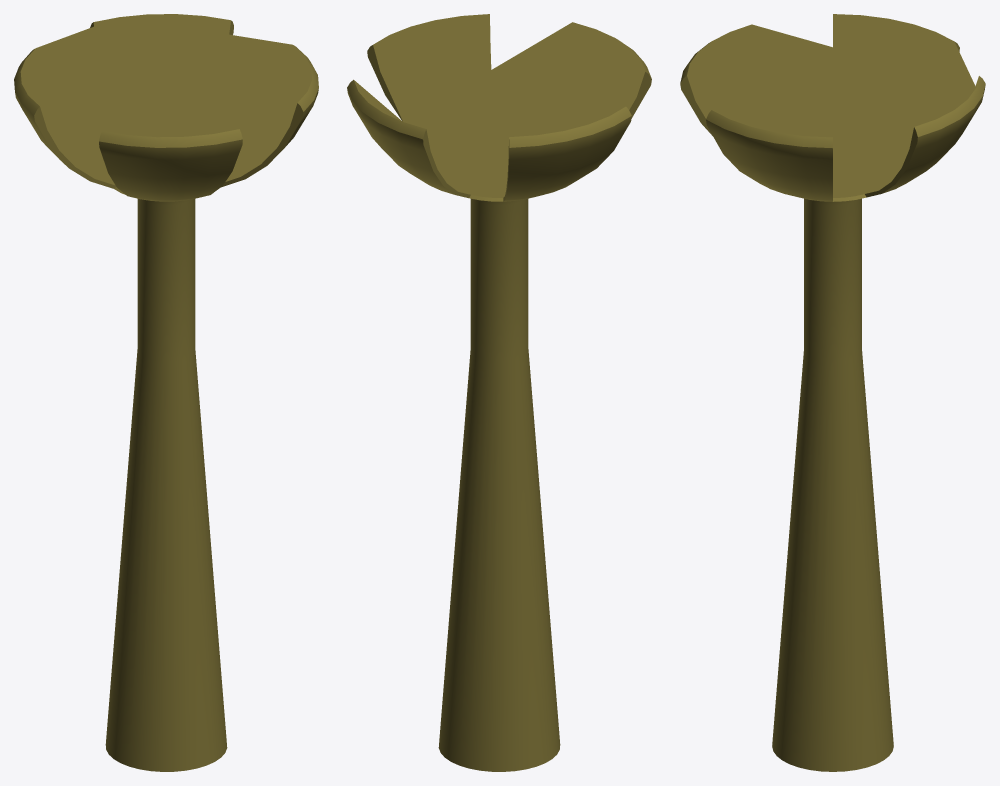
Rendered from PearlStand.fbx.
3 views of the same model, side by side, from view 1: azimuth 30°, elevation 25°; view 2: azimuth 150°, elevation 25°; view 3: azimuth 270°, elevation 25° (orthographic).
Parts seen in each view (by area): view 1: Pearl Stand; view 2: Pearl Stand; view 3: Pearl Stand.
Part boxes in pixels (x1=…): Pearl Stand: x1=14, y1=14, x2=318, y2=771; Pearl Stand: x1=347, y1=14, x2=651, y2=771; Pearl Stand: x1=680, y1=14, x2=985, y2=771.
Size of the model in its own units: 41.15 by 100 by 41.15.
